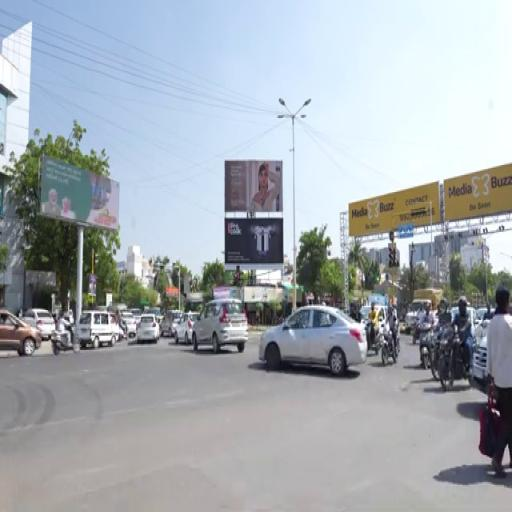Car: (260, 306, 367, 375), (192, 299, 247, 354), (0, 309, 41, 355), (76, 311, 118, 348), (472, 320, 489, 392), (22, 309, 55, 339), (175, 312, 198, 345), (137, 315, 159, 344), (161, 311, 183, 337), (122, 311, 136, 338), (375, 305, 387, 331), (468, 306, 476, 337)
